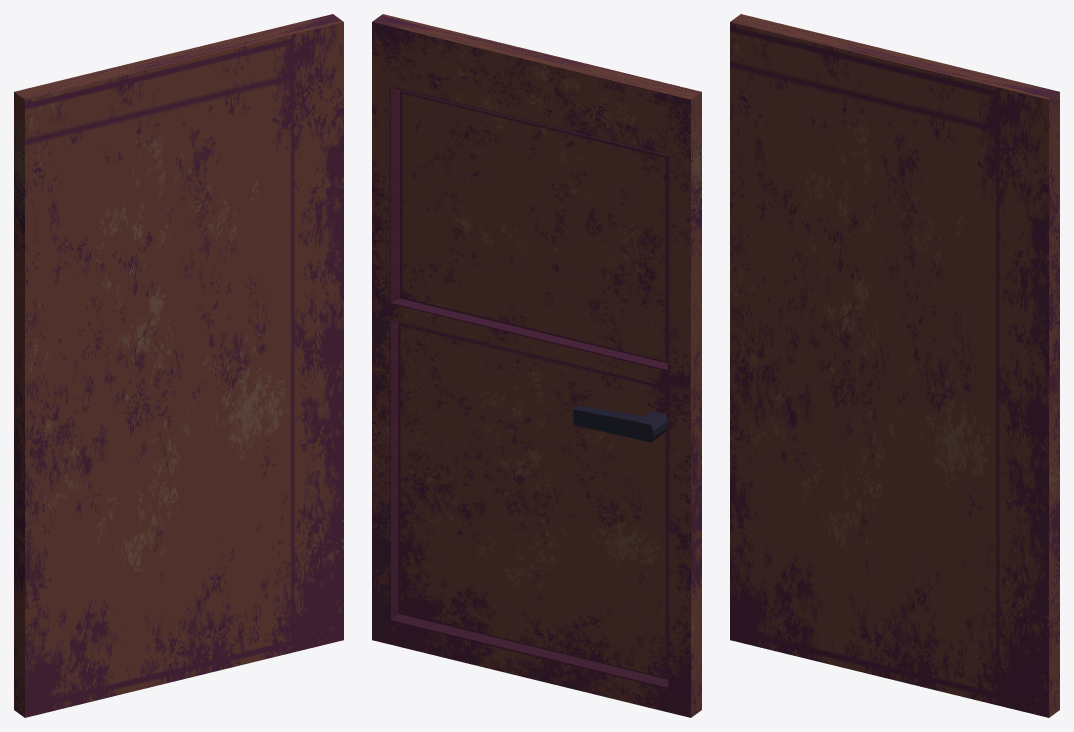
File: FBX_Door.fbx
3 views of the same model, side by side, from view 1: azimuth 30°, elevation 25°; view 2: azimuth 150°, elevation 25°; view 3: azimuth 330°, elevation 25° (orthographic).
Parts seen in each view (by area): view 1: Cube; view 2: Cube; view 3: Cube.
Boxes of the visible parts, x1,y1,x2,y2 form: Cube: [14, 14, 343, 717]; Cube: [372, 14, 701, 717]; Cube: [730, 14, 1059, 717].
Bounding box in the file's own units: 325 × 601 × 45.2.
